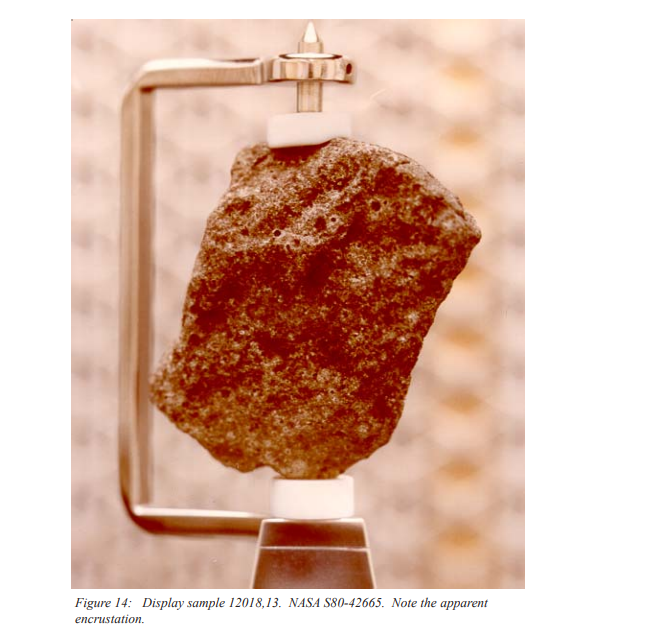Basalt: (177, 136, 489, 475), (177, 136, 485, 468)
